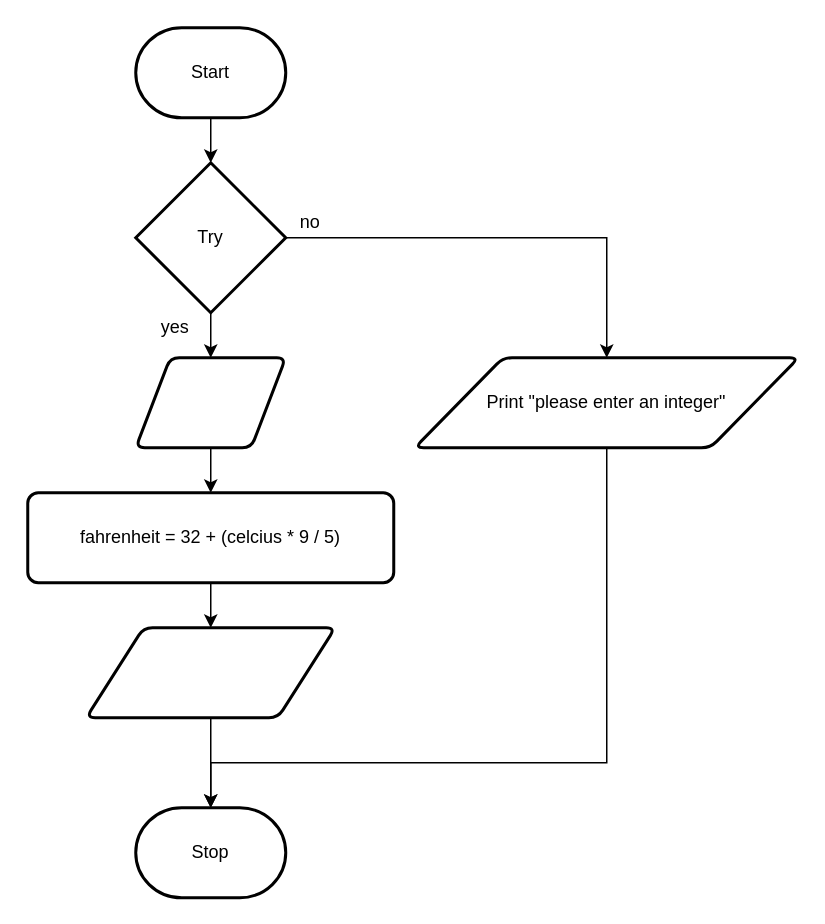
Image size: 825x924. Some labels were removed from this diagram. Each missing label, with the box of its shape:
Display fahrenheit: (84, 626, 336, 718)
Get celcius: (134, 356, 286, 448)
